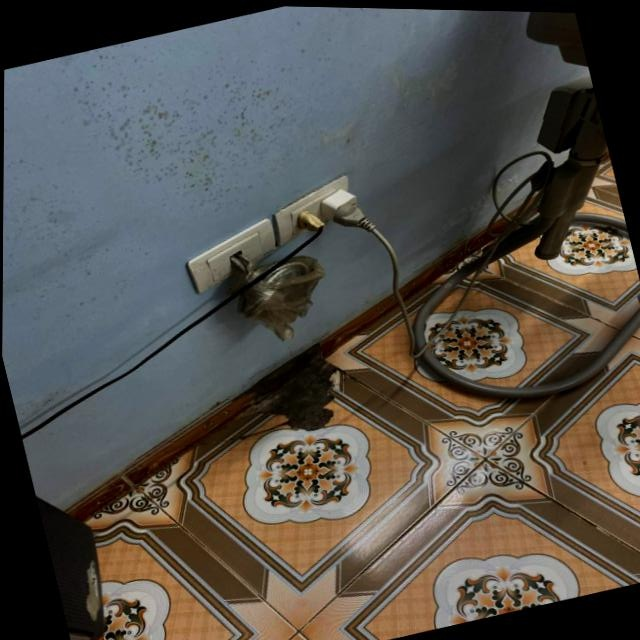outlet: (179, 216, 285, 299), (265, 173, 363, 250)
